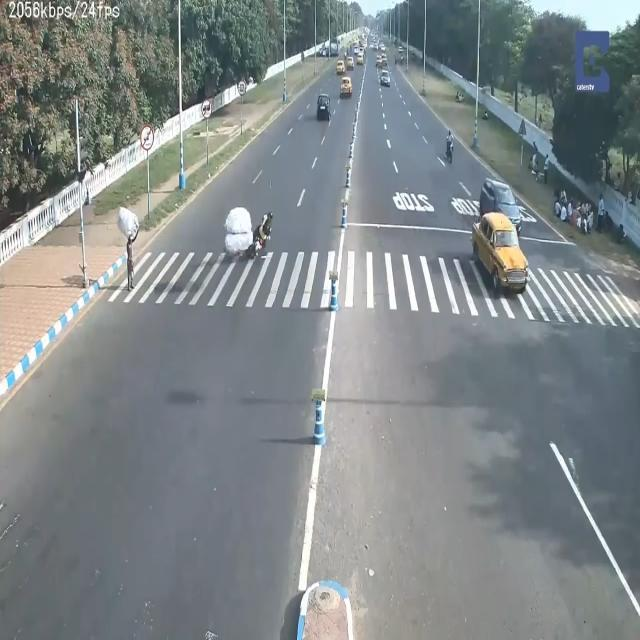accident: (247, 206, 277, 258)
